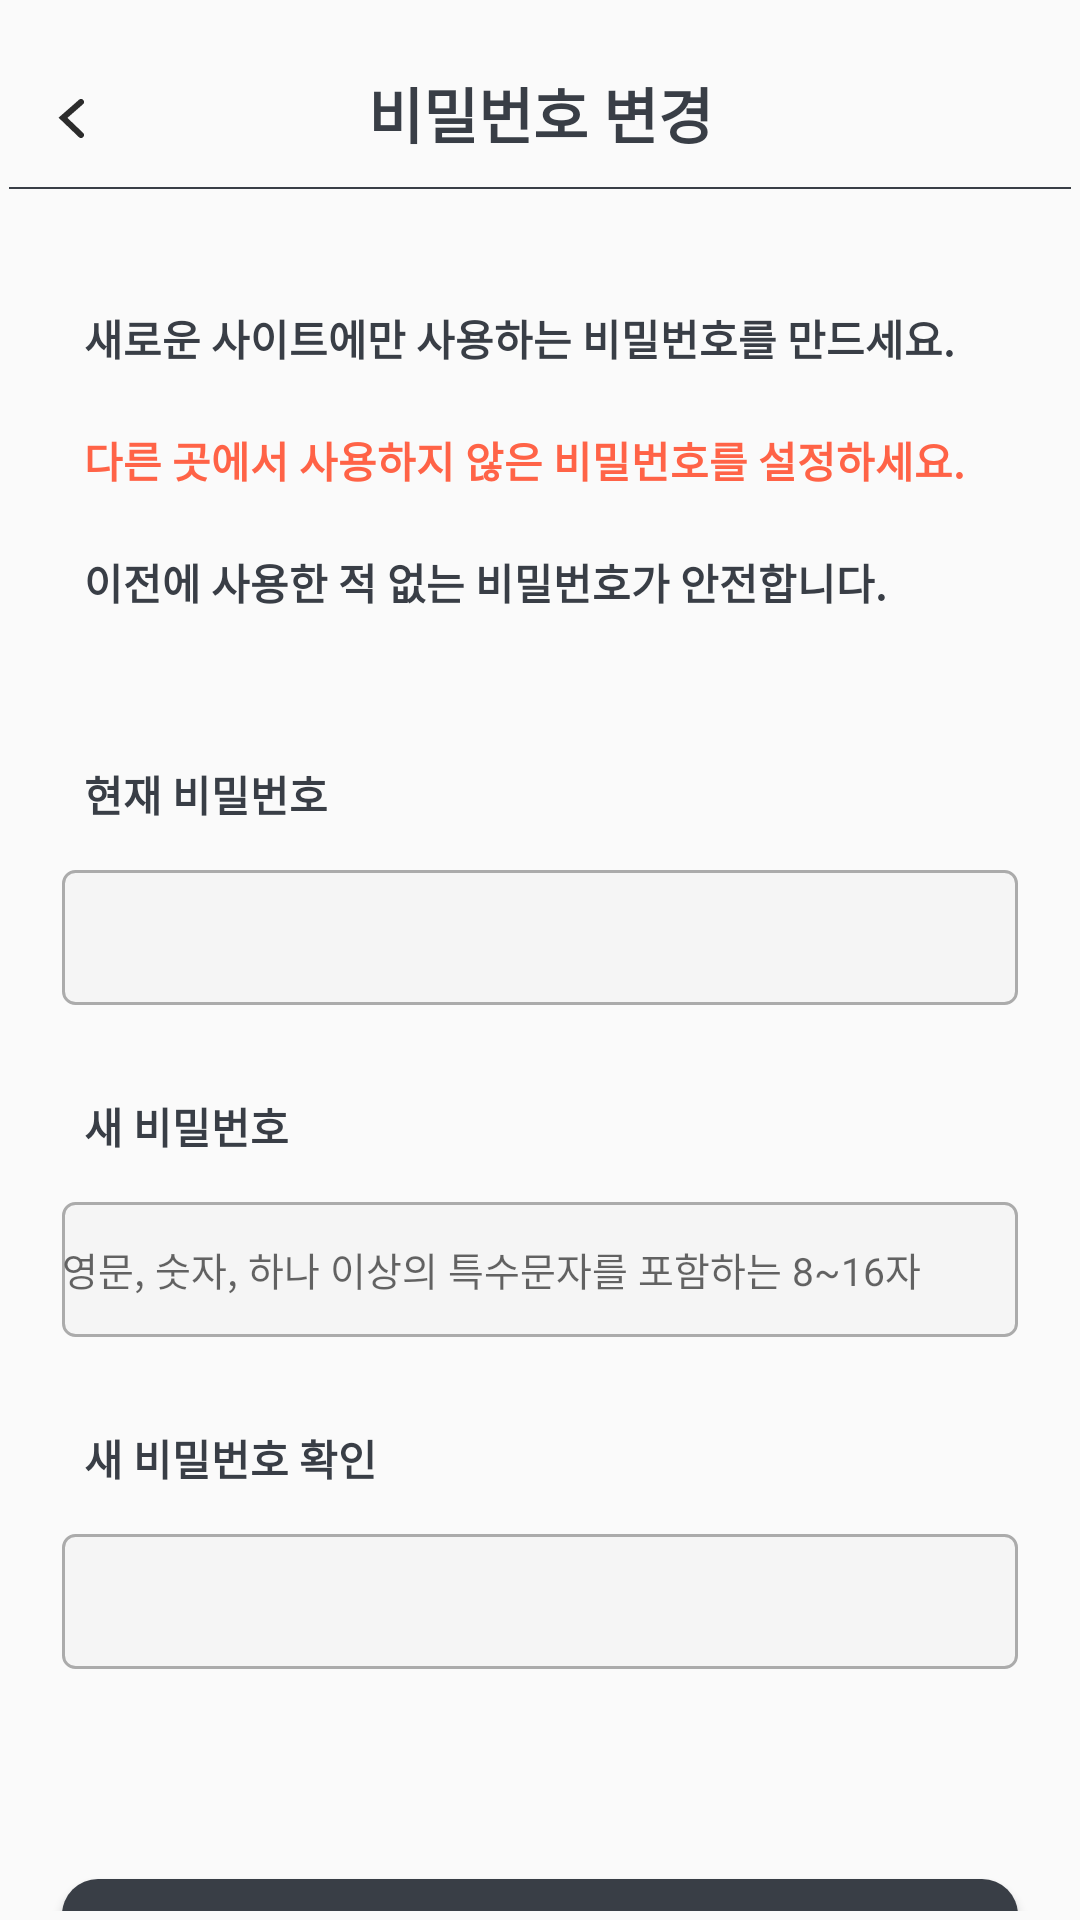

Where icons sit on this 1080 × 1920 app screen, as (x1=x1, y1=y1, x2=x2, y2=y2):
arrow: (x1=58, y1=99, x2=84, y2=138)
